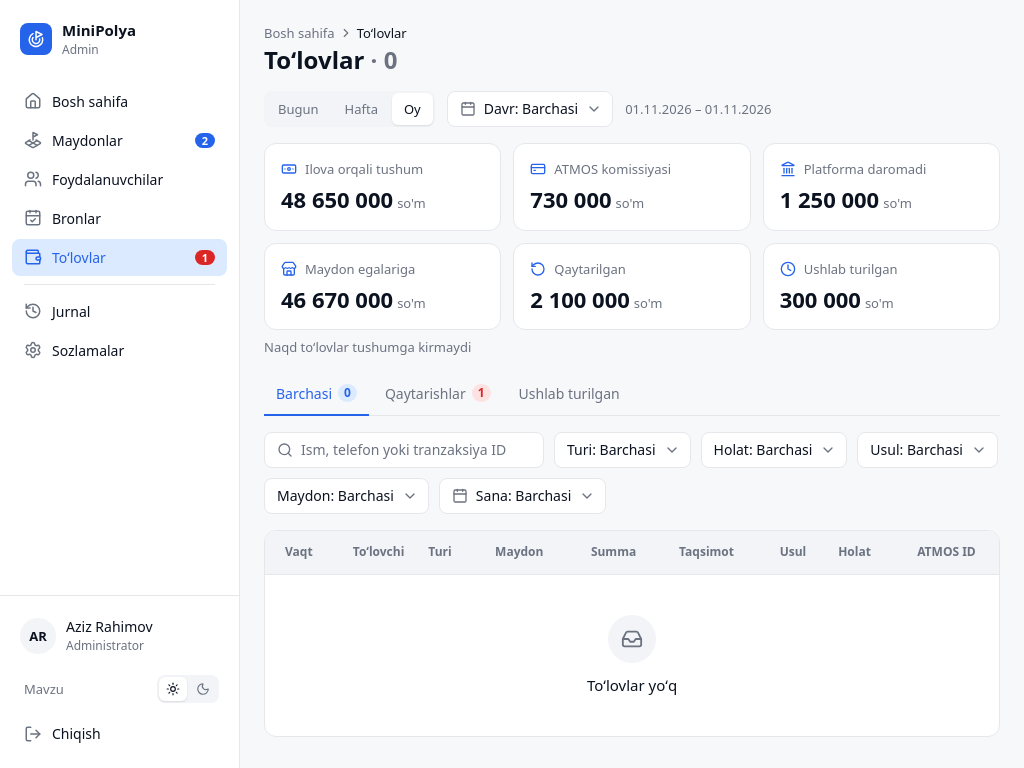
Test: Toʻlovlar › shows empty and error states
The width and height of the screenshot is (1024, 768).
Expected: the text "Toʻlovlar yoʻq" is shown, [587,675,677,696]
Select "Naqd" in the dropdown labelled "Usul" at (928, 450), box [857,432,998,468]
(page scrolled)
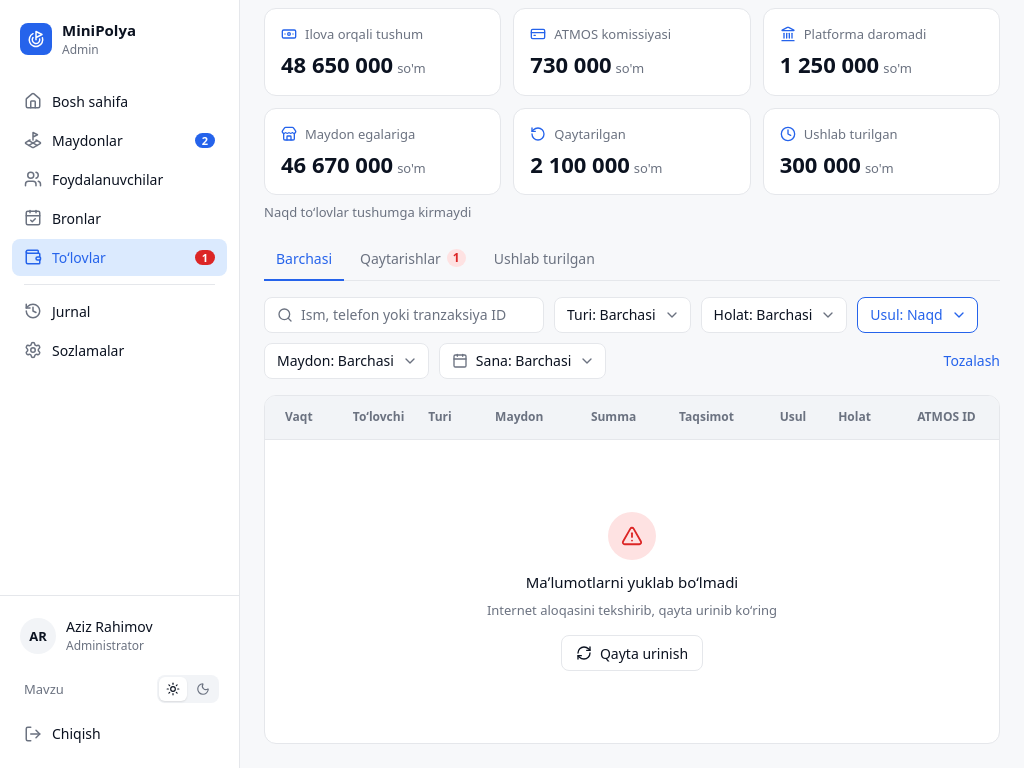
Expected: the message is shown, [487,512,777,671]
